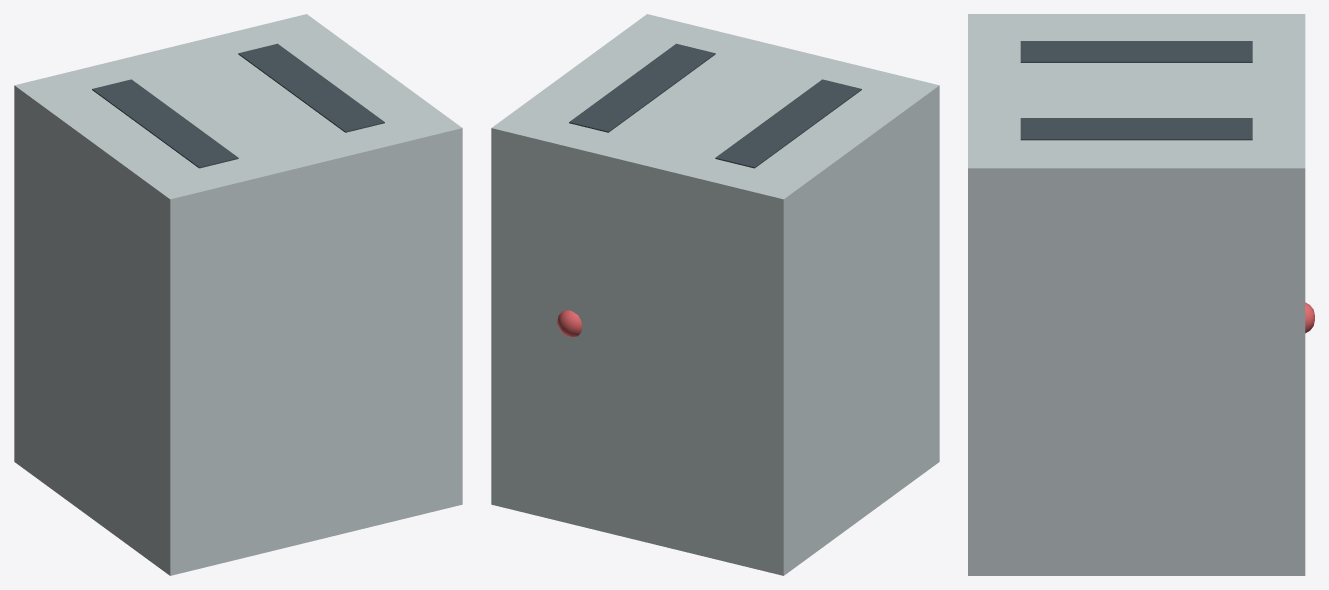
The model's file is toaster.gltf.
3 views of the same model, side by side, from view 1: azimuth 30°, elevation 25°; view 2: azimuth 150°, elevation 25°; view 3: azimuth 270°, elevation 25° (orthographic). The views are drawn at different scales.
Size of the model in its own units: 0.52 by 0.642 by 0.4938.
